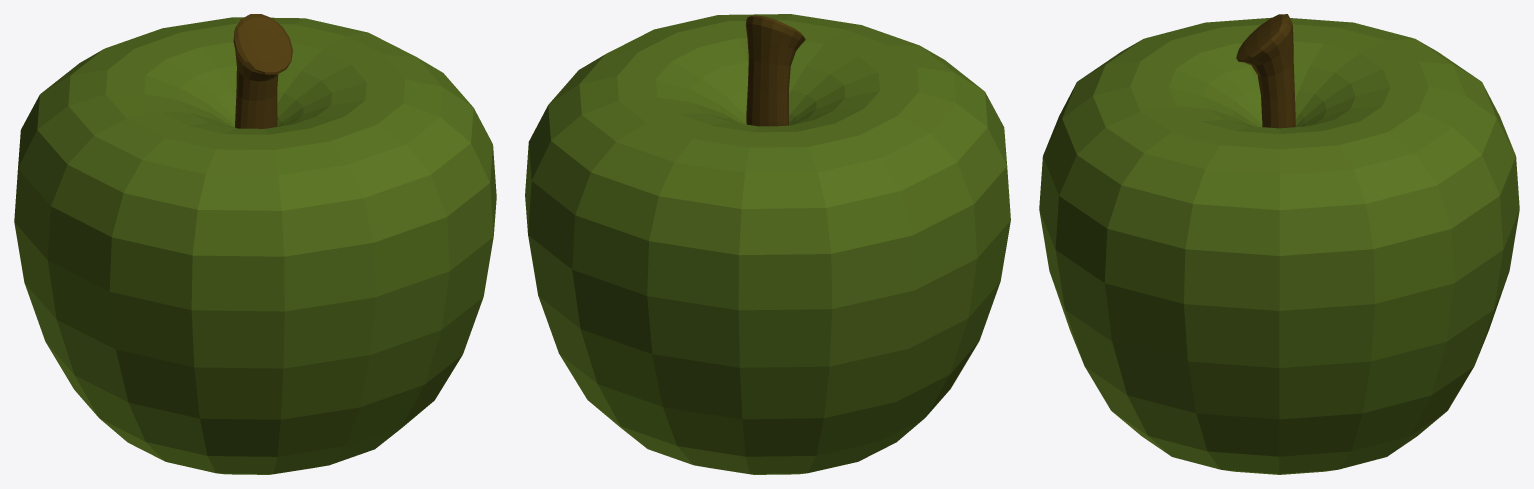
Rendered from apple.fbx.
3 views of the same model, side by side, from view 1: azimuth 30°, elevation 25°; view 2: azimuth 150°, elevation 25°; view 3: azimuth 270°, elevation 25° (orthographic).
Visible parts, largest first — view 1: Cube; view 2: Cube; view 3: Cube.
Part boxes in pixels (x1,y1,x2,y2): Cube: (14,14,496,474); Cube: (525,14,1010,474); Cube: (1039,14,1519,474).
Size of the model in its own units: 274 by 261 by 274.
